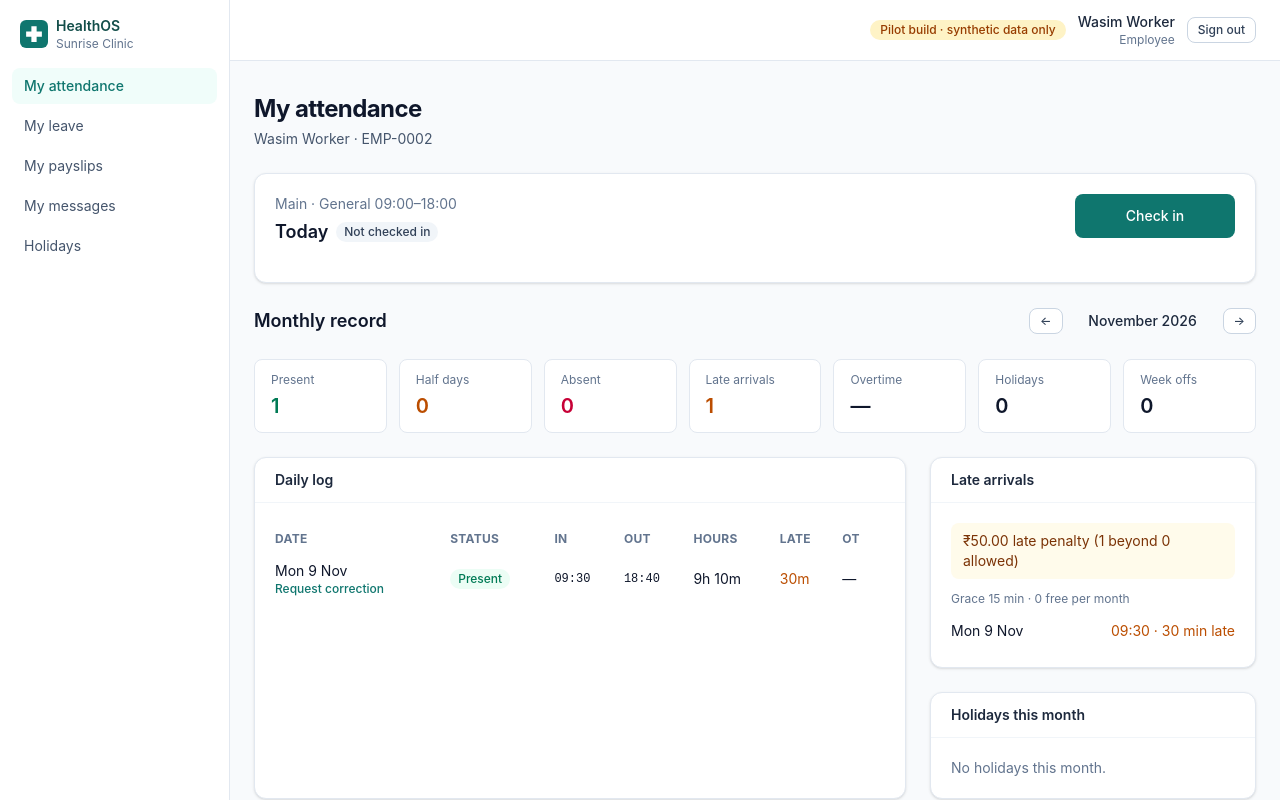
mark attendance › sends the location, then confirms with the OTP
Click the button "Check in".
click(1155, 216)  # box [1075,194,1235,238]
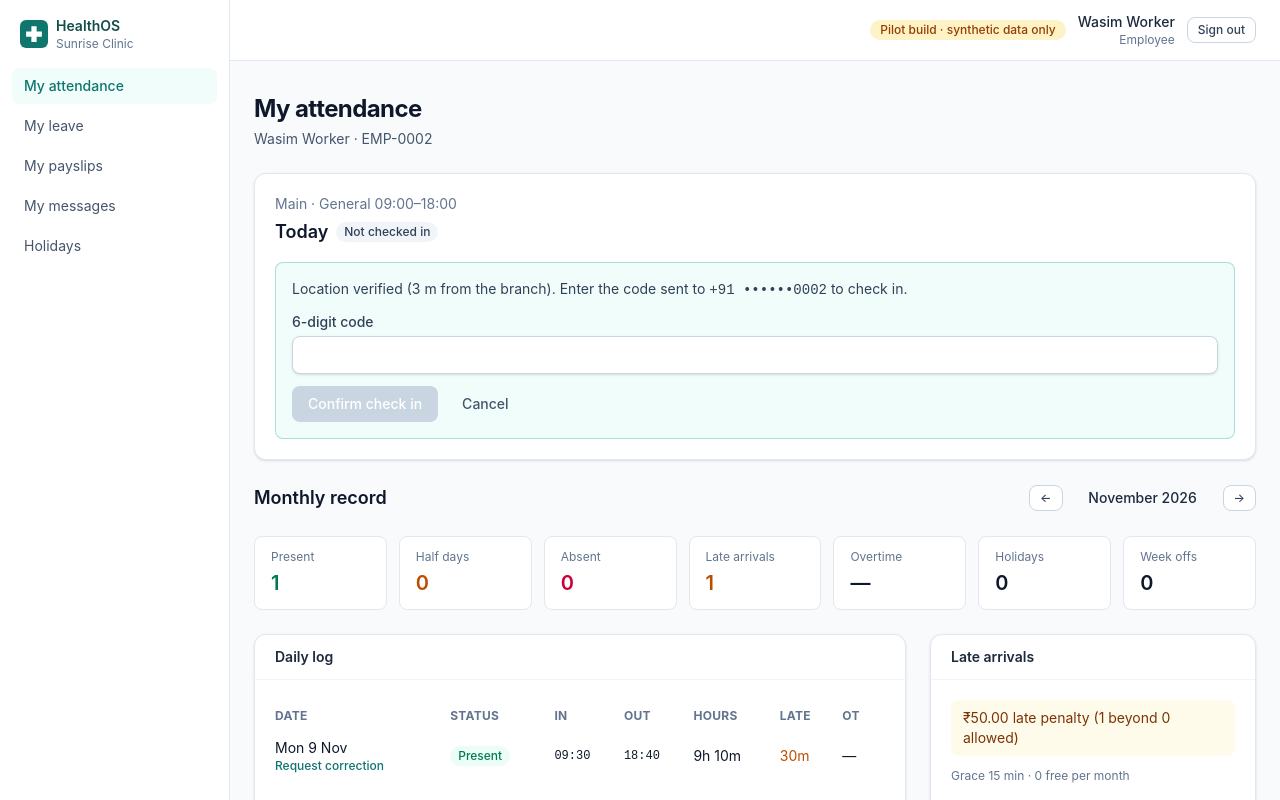
Expected: the text "Location verified (3 m from the branch)" is shown, [292,280,908,298]
Type "424242" into the field labelled "6-digit code".
click(755, 355); type("424242")  # box [292,336,1218,374]
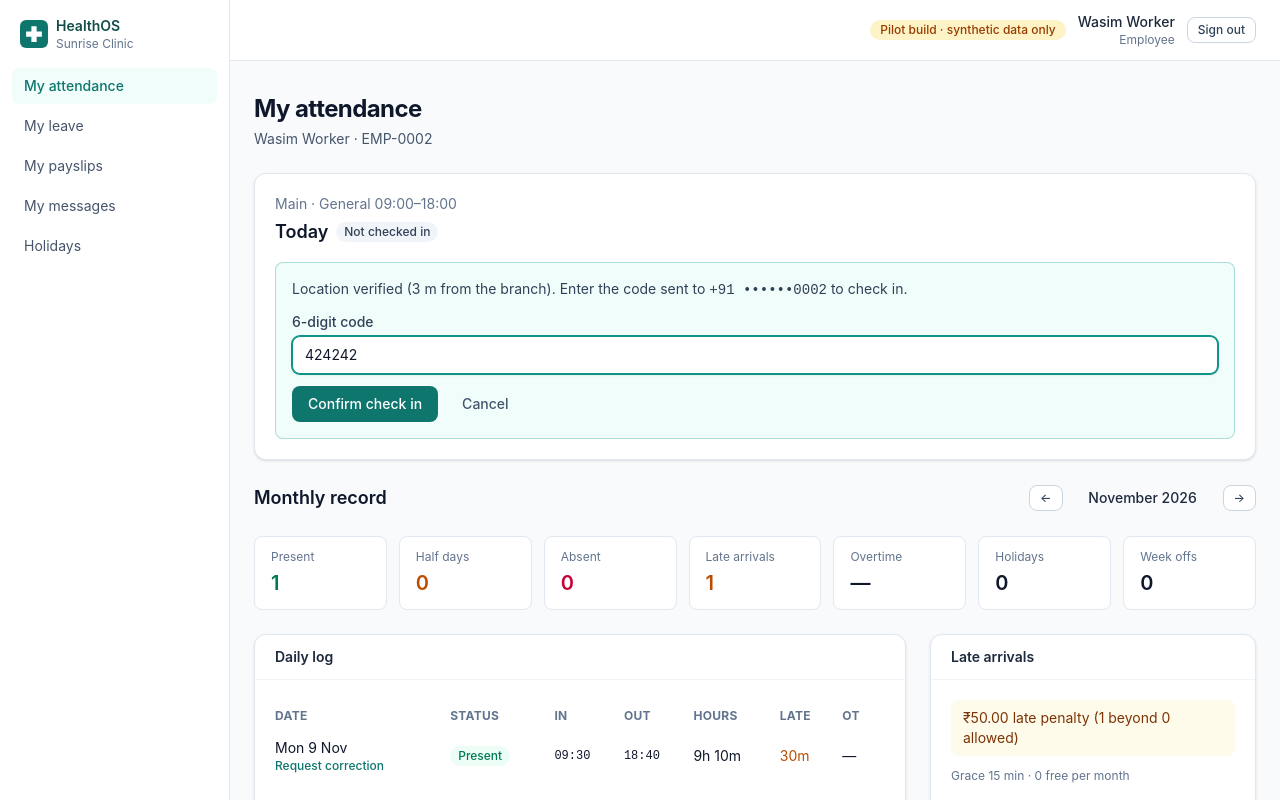
Click the button "Confirm check in".
click(365, 404)  # box [292,386,438,422]
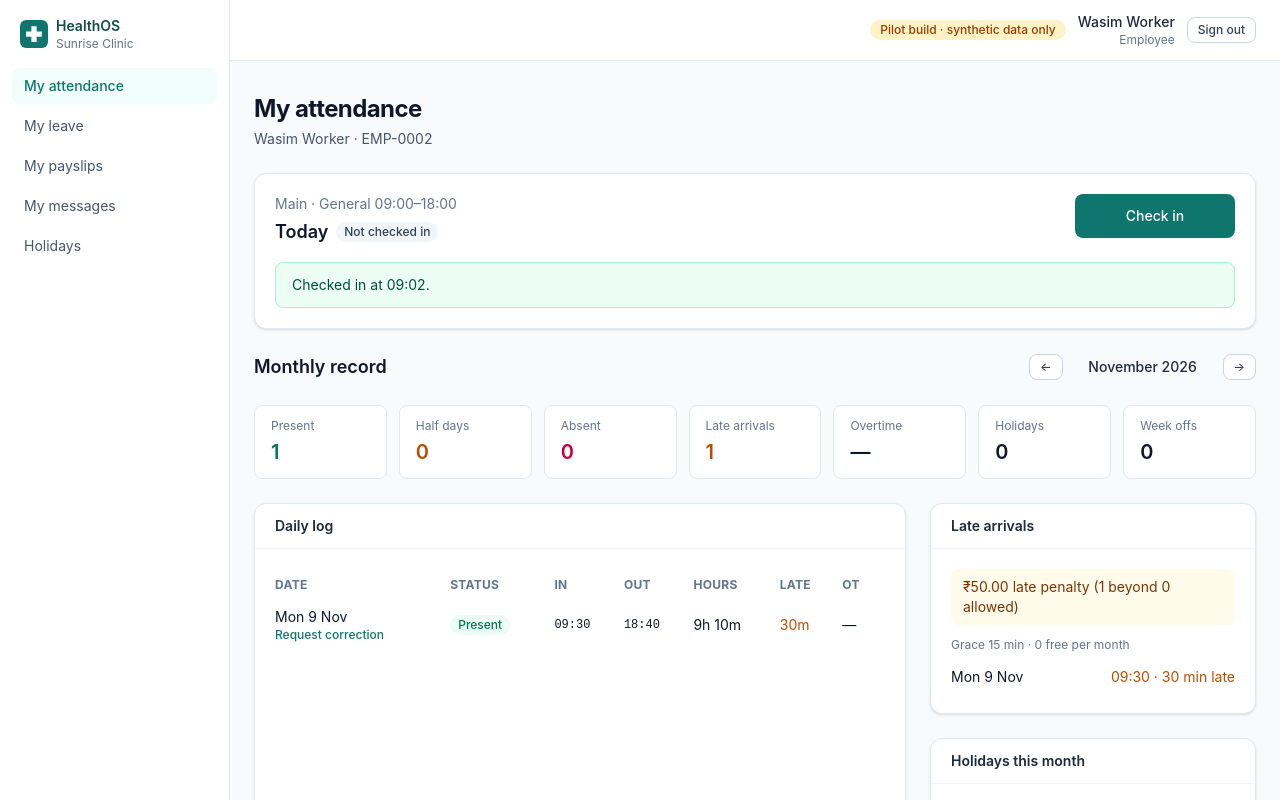
Expected: the text "Checked in at 09:02." is shown, [275,262,1235,308]
